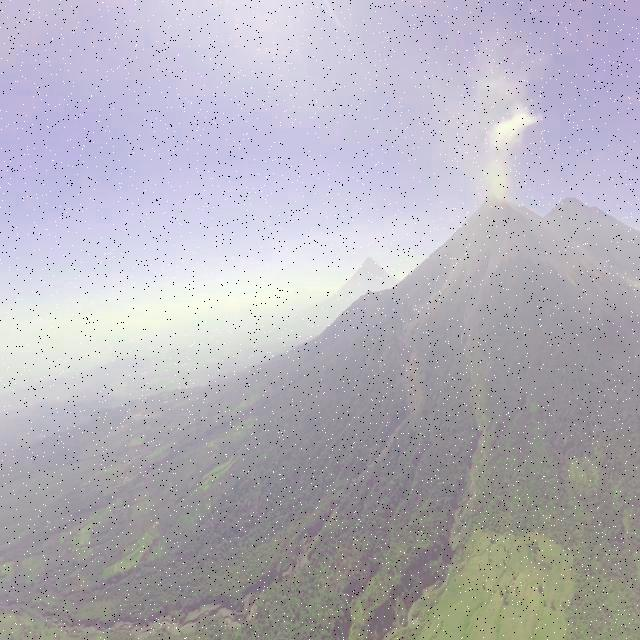Plume: (476, 102, 539, 208)
Summit: (475, 189, 524, 224)
